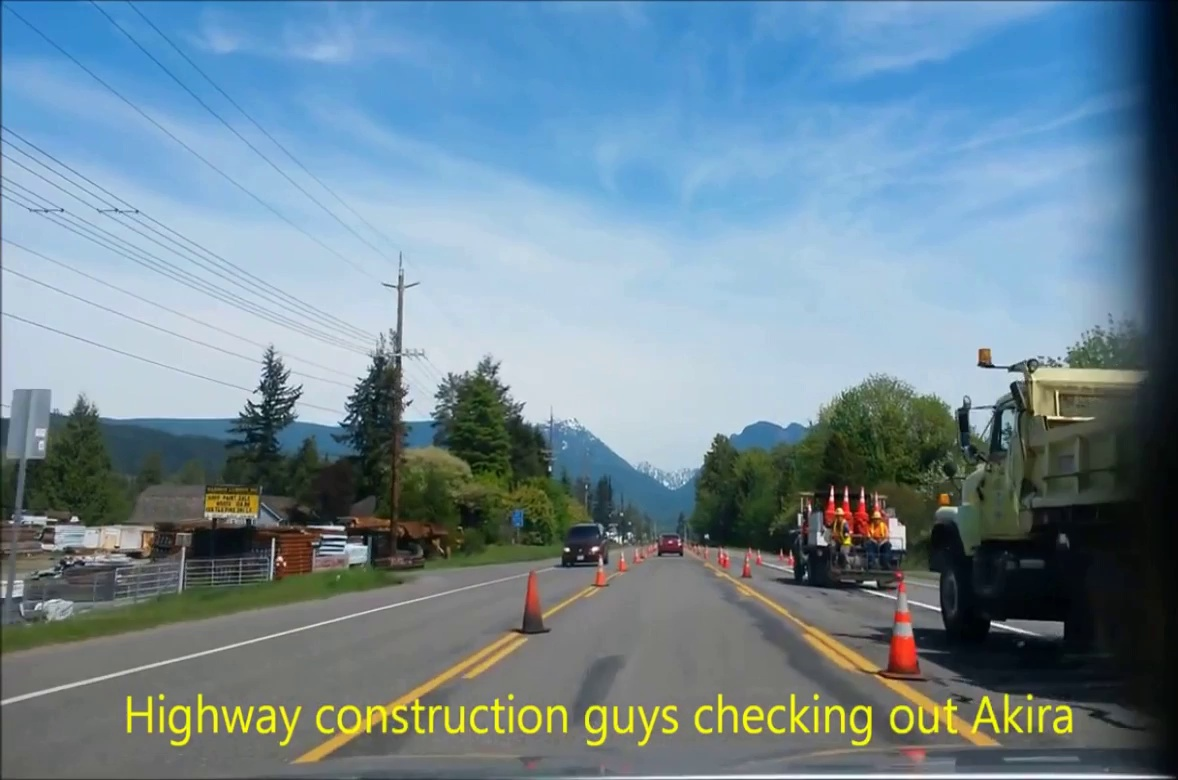Cone: (885, 582, 921, 676), (521, 568, 550, 620), (594, 556, 609, 587), (841, 485, 854, 519), (827, 485, 840, 515), (857, 488, 868, 516)
